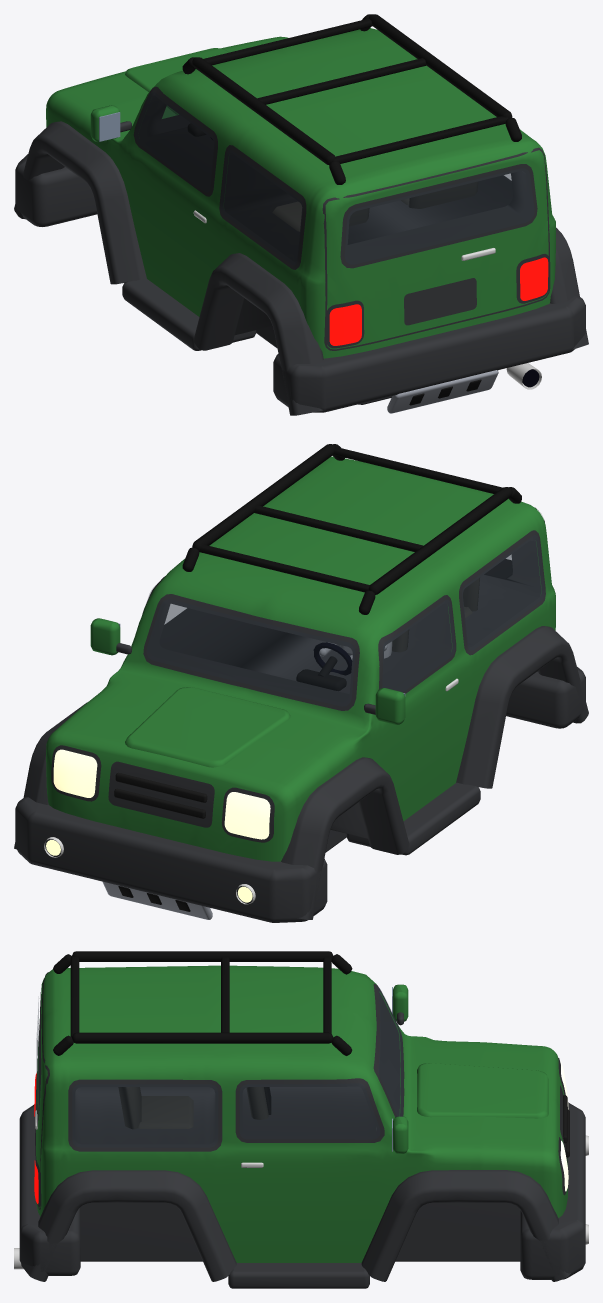
The model's file is car_suv.glb.
The picture shows the model from 3 angles, top to bottom: view 1: azimuth 30°, elevation 25°; view 2: azimuth 150°, elevation 25°; view 3: azimuth 270°, elevation 25°; orthographic projection. The views are drawn at different scales.
Parts seen in each view (by area): view 1: body_q, detail_q; view 2: body_q, detail_q; view 3: body_q, detail_q.
Boxes of the visible parts, <box> form: body_q: <box>14,28,588,415</box>; detail_q: <box>99,14,541,413</box>; body_q: <box>14,456,588,922</box>; detail_q: <box>44,444,521,919</box>; body_q: <box>19,965,585,1288</box>; detail_q: <box>14,951,588,1269</box>.
Size of the model in its own units: 2.4 by 1.86 by 4.05.
